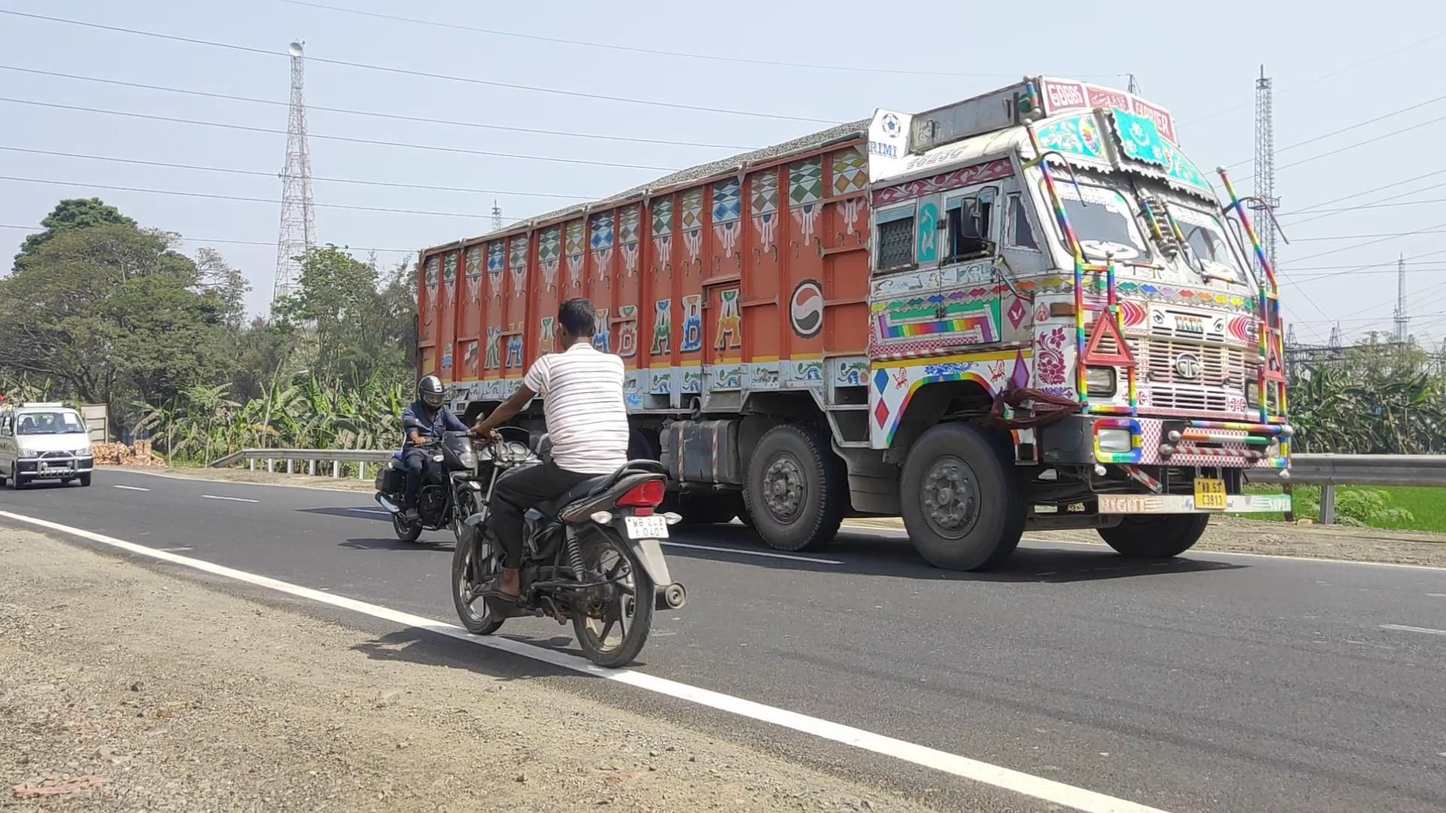bike: (450, 298, 687, 670), (374, 375, 485, 545)
truck: (413, 75, 1293, 571)
van: (1, 402, 93, 489)
